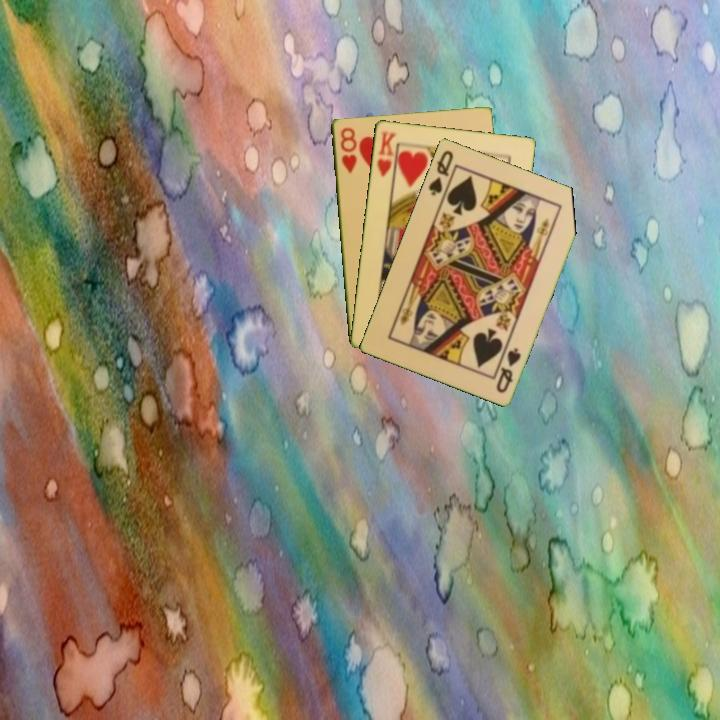8h: (337, 124, 359, 176)
Kh: (373, 127, 399, 184)
Qs: (492, 344, 524, 396), (425, 146, 456, 198)
